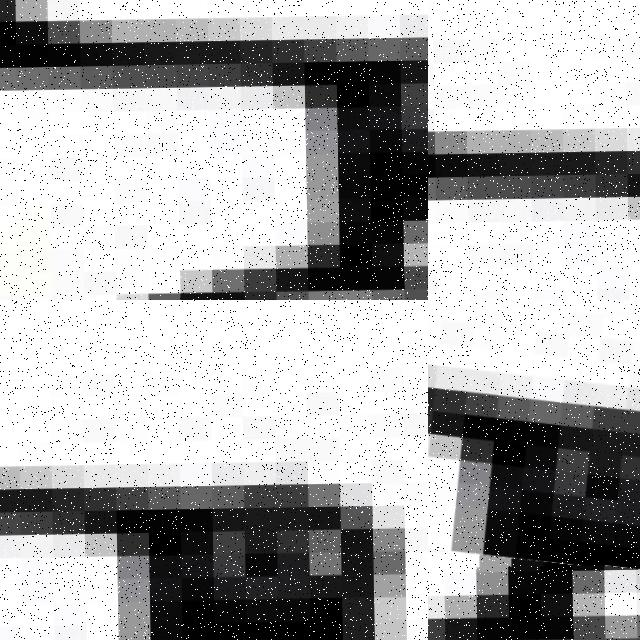drone: (428, 300, 640, 572)
